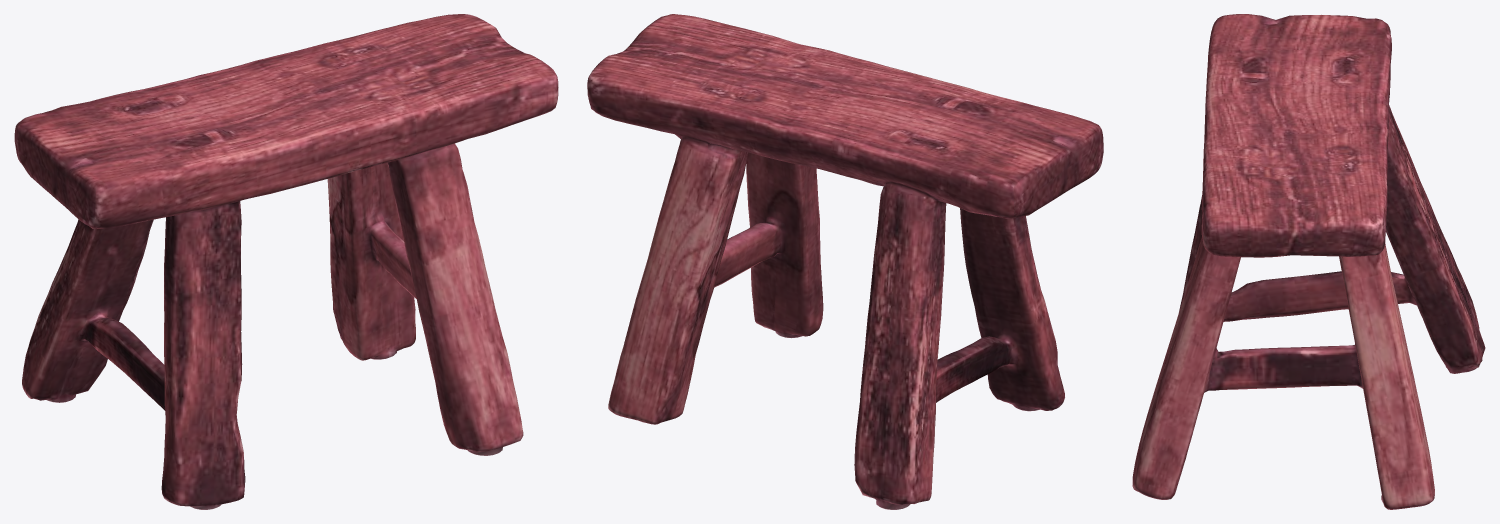
The model's file is nyb_blackswan_stool.glb.
The picture shows the model from 3 angles, left to right: view 1: azimuth 30°, elevation 25°; view 2: azimuth 150°, elevation 25°; view 3: azimuth 270°, elevation 25°; orthographic projection. The views are drawn at different scales.
Parts seen in each view (by area): view 1: wooden_stool_02; view 2: wooden_stool_02; view 3: wooden_stool_02.
Boxes of the visible parts, x1=… form: wooden_stool_02: x1=14, y1=14, x2=558, y2=509; wooden_stool_02: x1=587, y1=14, x2=1103, y2=509; wooden_stool_02: x1=1132, y1=14, x2=1485, y2=509.
Bounding box in the file's own units: 0.2652 × 0.1819 × 0.1831.
Materials: 1 (1 with a texture image).
